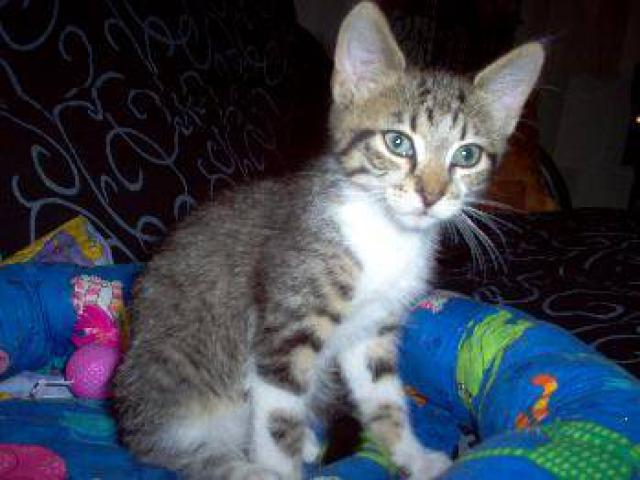cat: (98, 1, 548, 476)
